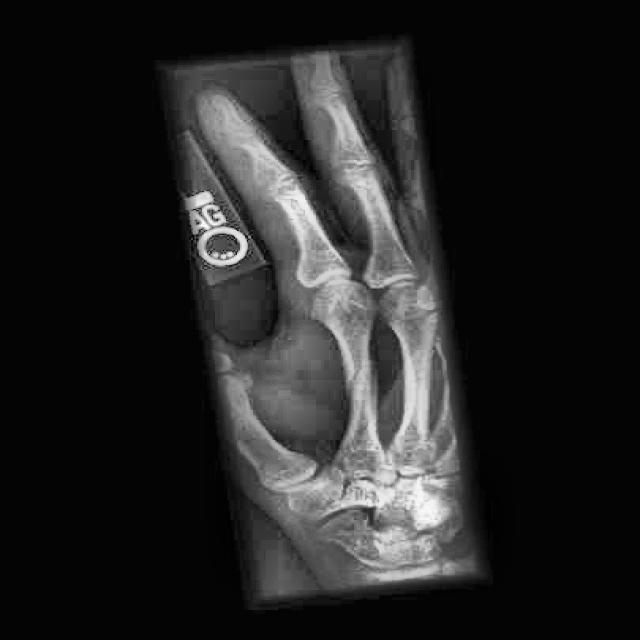fingers positive: (323, 343, 383, 409)
